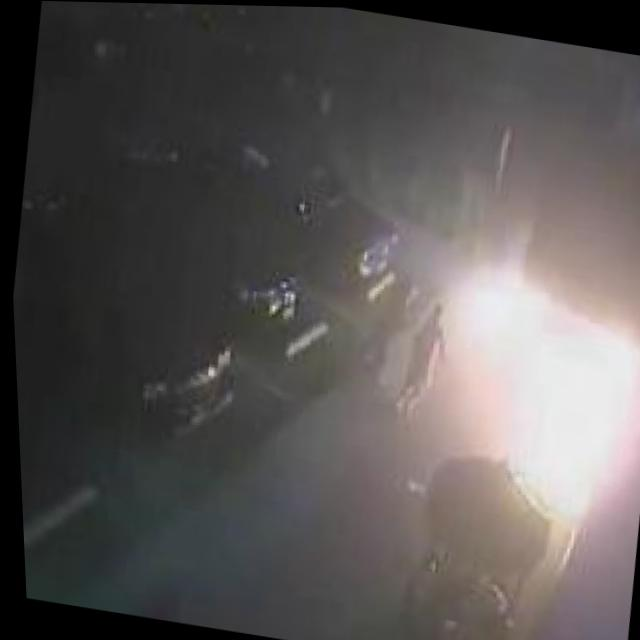fire: (404, 242, 640, 533)
